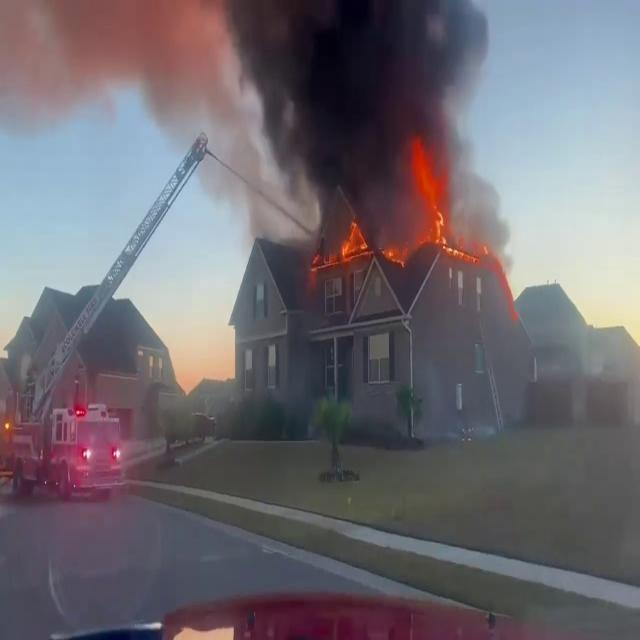Fire: (408, 142, 472, 260), (337, 216, 378, 266)
Smoke: (219, 0, 501, 254)
